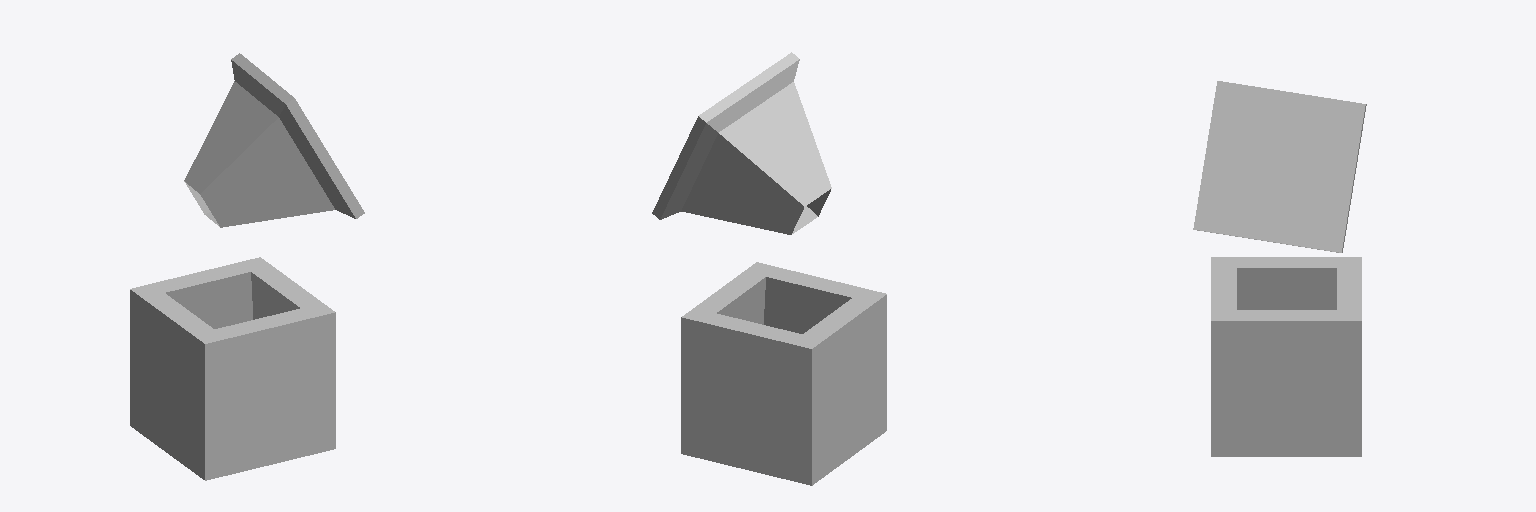
The model's file is AnimatedBox_000068.obj.
3 renders of one model, left to right at view 1: azimuth 30°, elevation 25°; view 2: azimuth 150°, elevation 25°; view 3: azimuth 270°, elevation 25°, orthographic.
Visible parts, largest first — view 1: Cube, Cube.001; view 2: Cube, Cube.001; view 3: Cube, Cube.001.
Boxes of the visible parts, x1=… form: Cube: x1=130, y1=257, x2=335, y2=480; Cube.001: x1=184, y1=53, x2=364, y2=227; Cube: x1=681, y1=262, x2=886, y2=485; Cube.001: x1=652, y1=52, x2=831, y2=234; Cube: x1=1211, y1=257, x2=1361, y2=456; Cube.001: x1=1193, y1=81, x2=1366, y2=252.
Size of the model in its own units: 2.61 by 5.24 by 2.3.